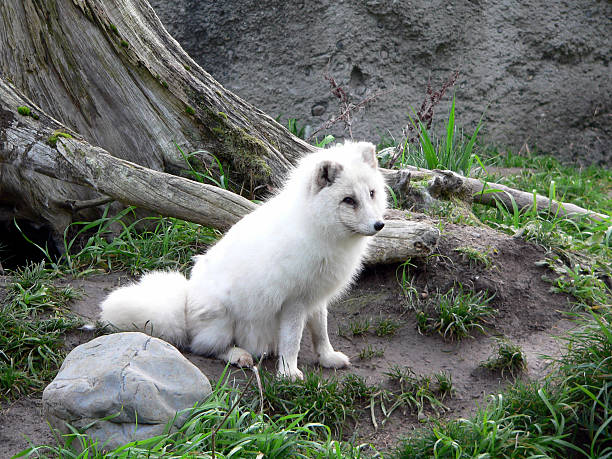arcticfox: (323, 170, 382, 246)
